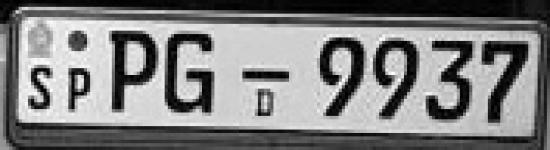-: (238, 64, 294, 85)
3: (426, 36, 479, 126)
7: (482, 36, 532, 129)
9: (313, 32, 369, 121), (369, 34, 423, 126)
G: (161, 28, 228, 125)
P: (103, 23, 161, 118), (60, 59, 96, 115)
S: (24, 58, 62, 116)
